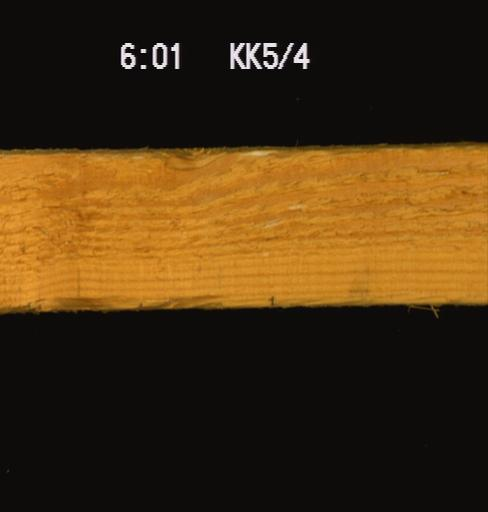edge_knot: (146, 147, 225, 175)
wave: (26, 277, 225, 308), (278, 287, 486, 306)
